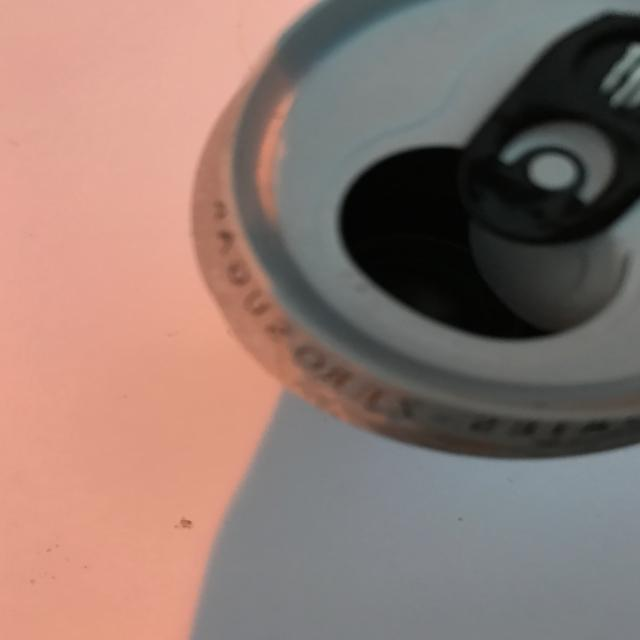metal: (189, 0, 640, 460)
